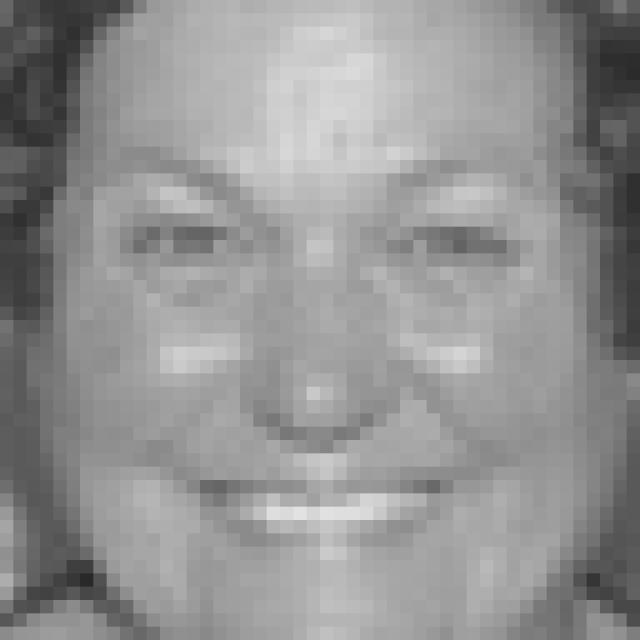happy: (94, 134, 565, 568)
